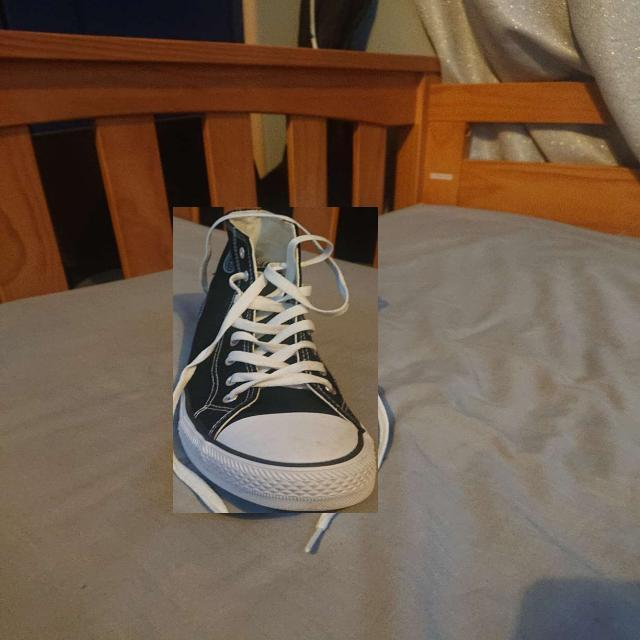shoe: (173, 207, 378, 513)
